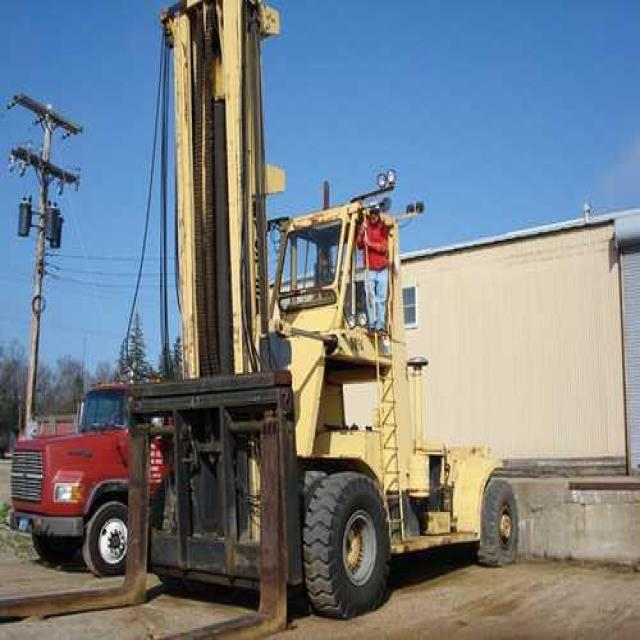Chariot elevateur: (0, 0, 521, 638)
